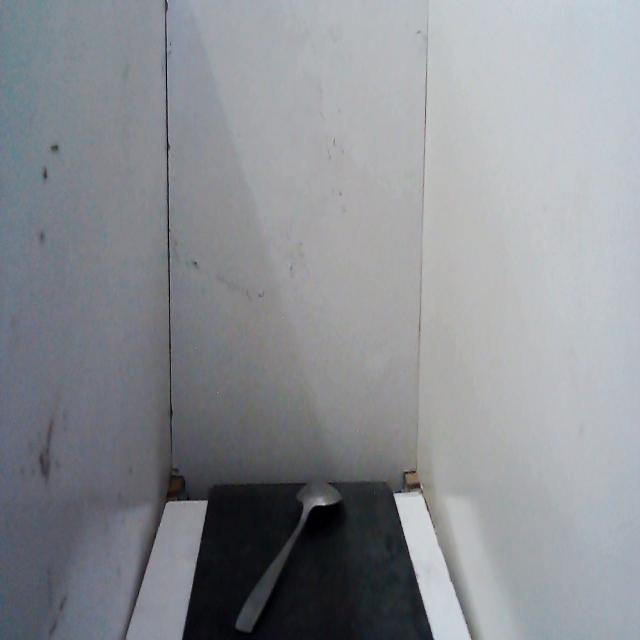metal: (230, 474, 350, 640)
